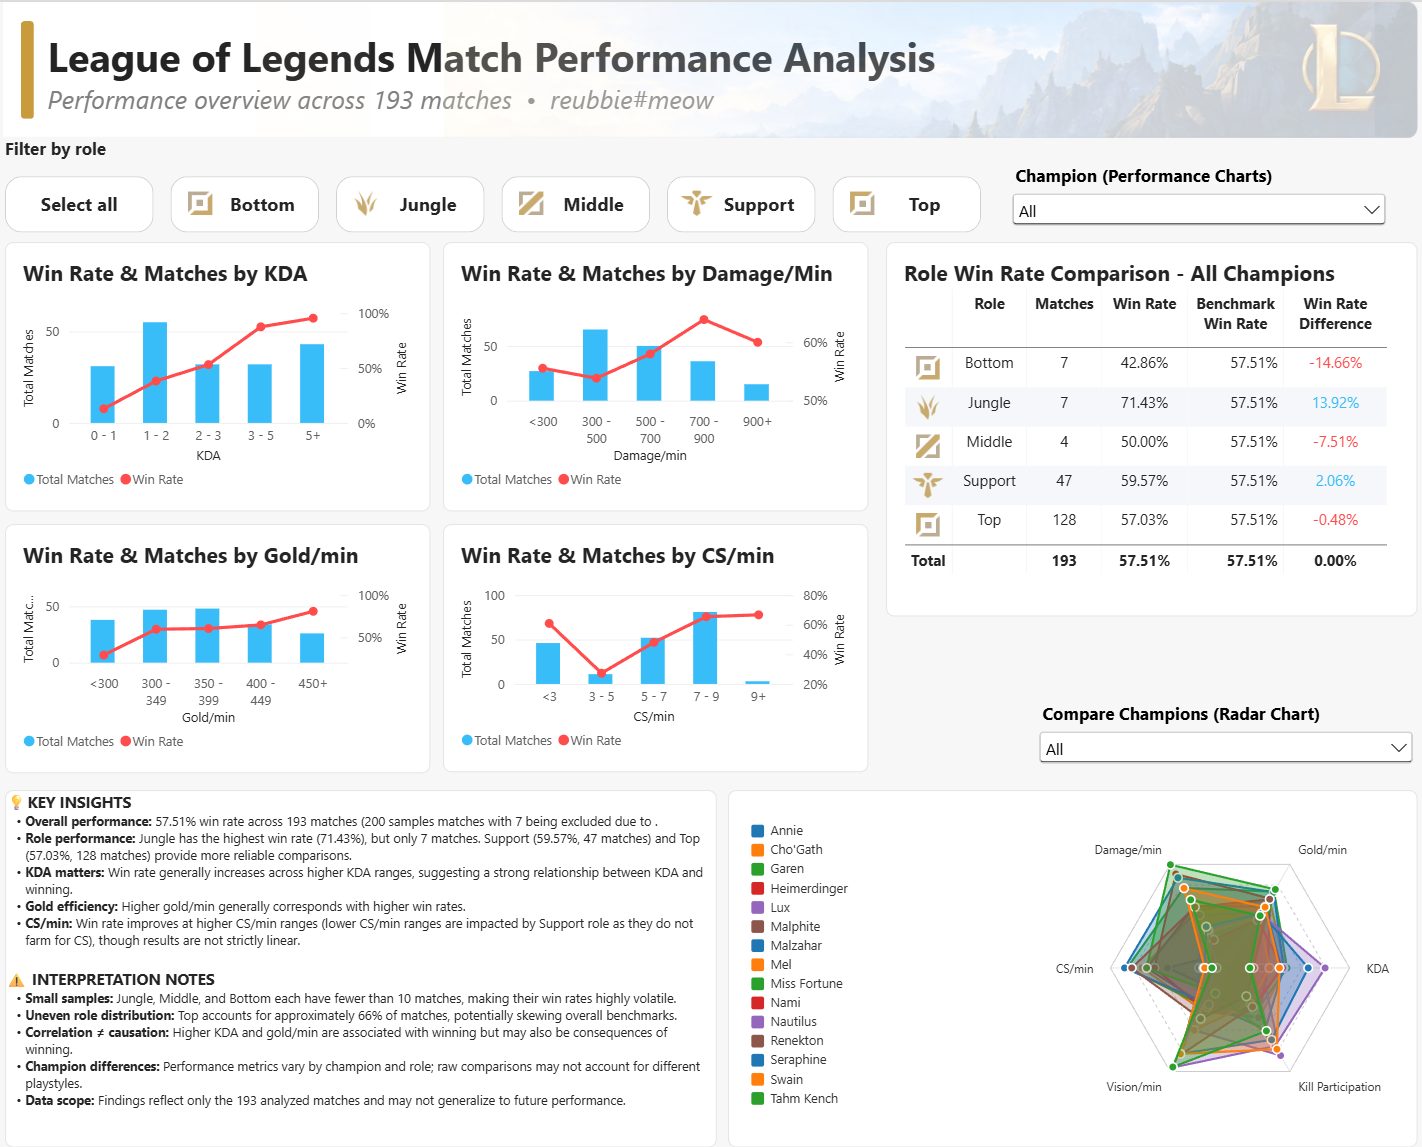

This screenshot's page, from the dashboard's own definition file:
{"tool":"powerbi","page":{"name":"What Drives winning?","canvas":[1920,1080],"ordinal":1},"visuals":[{"type":"lineClusteredColumnComboChart","title":"Win Rate & Matches by KDA","fields":{"Category":["match_analysis.kda_range"],"Y":["match_analysis.Total Matches"],"Y2":["match_analysis.Win Rate"]},"box":[312.9,226.2,400.6,253.5],"z":0},{"type":"advancedSlicerVisual","title":"Filter by role","fields":{"Values":["match_analysis.role"]},"box":[312.9,127.2,944.4,90.5],"z":1000},{"type":"tableEx","fields":{"Values":["match_analysis.role_icon","match_analysis.role","match_analysis.Total Matches","match_analysis.Win Rate","match_analysis.Selected Win Rate","match_analysis.Win Rate Difference"]},"box":[1143.3,226.2,501.4,352.5],"z":2000},{"type":"slicer","fields":{"Values":["match_analysis.champion"]},"box":[1257.4,152.7,362.1,73.1],"z":3000},{"type":"lineClusteredColumnComboChart","title":"Win Rate & Matches by CS/min","fields":{"Category":["match_analysis.cs_per_minute_range"],"Y":["match_analysis.Total Matches"],"Y2":["match_analysis.Win Rate"]},"box":[725.8,492,400.6,233.8],"z":4000},{"type":"lineClusteredColumnComboChart","title":"Win Rate & Matches by Damage/Min","fields":{"Category":["match_analysis.dpm range"],"Y":["match_analysis.Total Matches"],"Y2":["match_analysis.Win Rate"]},"box":[725.8,226.2,400.6,253.5],"z":5000},{"type":"lineClusteredColumnComboChart","title":"Win Rate & Matches by Gold/min","fields":{"Category":["match_analysis.gold range"],"Y":["match_analysis.Total Matches"],"Y2":["match_analysis.Win Rate"]},"box":[312.9,492,400.6,234.7],"z":6000},{"type":"spiderChartEBF68F5EEE3E489596FDE673EFF5928C","fields":{"category":["Performance Attributes.Attribute"],"series":["match_analysis.champion"],"measure":["Performance Attributes.Radar Score"]},"box":[994.4,742.7,650.4,337.4],"z":7000},{"type":"slicer","fields":{"Values":["match_analysis.champion"]},"box":[1282.8,659.8,362.1,73.1],"z":8000},{"type":"textbox","title":"League of Legends Match Performance Analysis","box":[311,0,1293.2,127.2],"z":9000},{"type":"image","box":[726.7,0,917.8,127.6],"z":10000},{"type":"shape","box":[328,17.9,12.3,92.4],"z":11000},{"type":"image","box":[340.3,0,526.9,127.2],"z":12000},{"type":"textbox","box":[312.9,742.7,671.1,337.4],"z":13000}]}

Visuals, with their boxes on the page's 1920x1080 design canvas (x1, y1, x2, y2). These are canvas units, not pixel positions in the 1422x1147 screenshot, which may show the page scaled, cropped or inside an application window:
"Win Rate & Matches by KDA" lineClusteredColumnComboChart: 313,226,714,480
"Filter by role" advancedSlicerVisual: 313,127,1257,218
tableEx - match_analysis.role_icon x match_analysis.role: 1143,226,1645,579
slicer - match_analysis.champion: 1257,153,1620,226
"Win Rate & Matches by CS/min" lineClusteredColumnComboChart: 726,492,1126,726
"Win Rate & Matches by Damage/Min" lineClusteredColumnComboChart: 726,226,1126,480
"Win Rate & Matches by Gold/min" lineClusteredColumnComboChart: 313,492,714,727
spiderChartEBF68F5EEE3E489596FDE673EFF5928C - Performance Attributes.Attribute x match_analysis.champion: 994,743,1645,1080
slicer - match_analysis.champion: 1283,660,1645,733
"League of Legends Match Performance Analysis" textbox: 311,0,1604,127
image: 727,0,1644,128
shape: 328,18,340,110
image: 340,0,867,127
textbox: 313,743,984,1080
